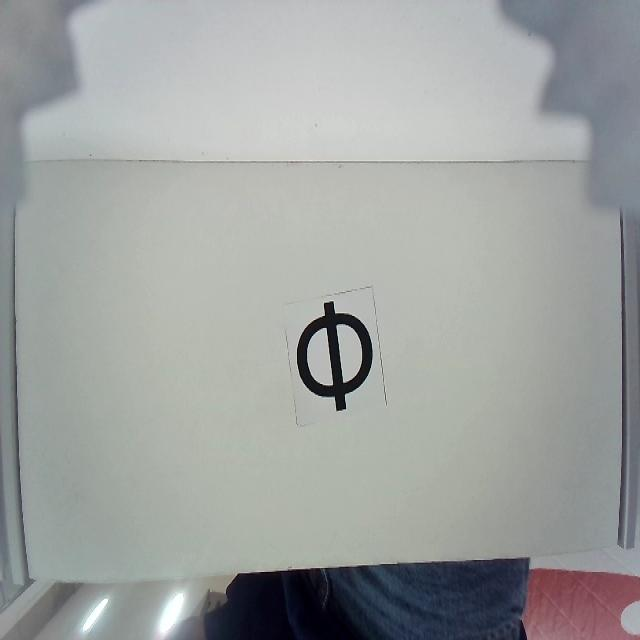F: (297, 299, 373, 412)
